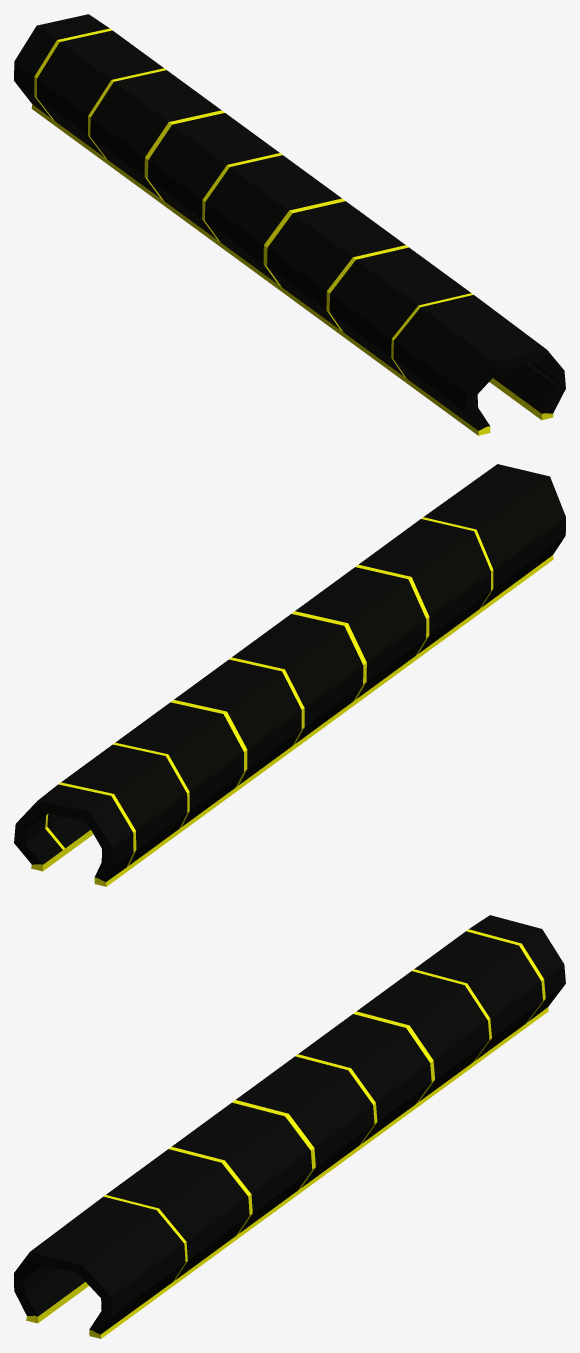
The model's file is Tunel3.obj.
The picture shows the model from 3 angles, top to bottom: view 1: azimuth 30°, elevation 25°; view 2: azimuth 150°, elevation 25°; view 3: azimuth 330°, elevation 25°; orthographic projection.
Parts seen in each view (by area): view 1: pCube22; view 2: pCube22; view 3: pCube22.
Boxes of the visible parts, box(x1,y1,x2,y2) form: pCube22: box(14, 14, 565, 435); pCube22: box(14, 464, 565, 886); pCube22: box(14, 915, 565, 1338).
Size of the model in its own units: 37.88 by 28.16 by 303.
